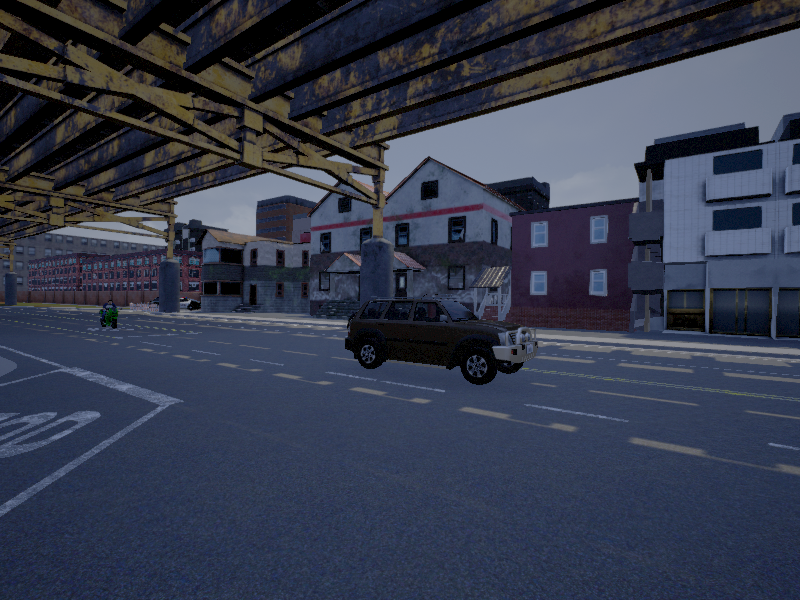benign: (346, 301, 541, 383)
